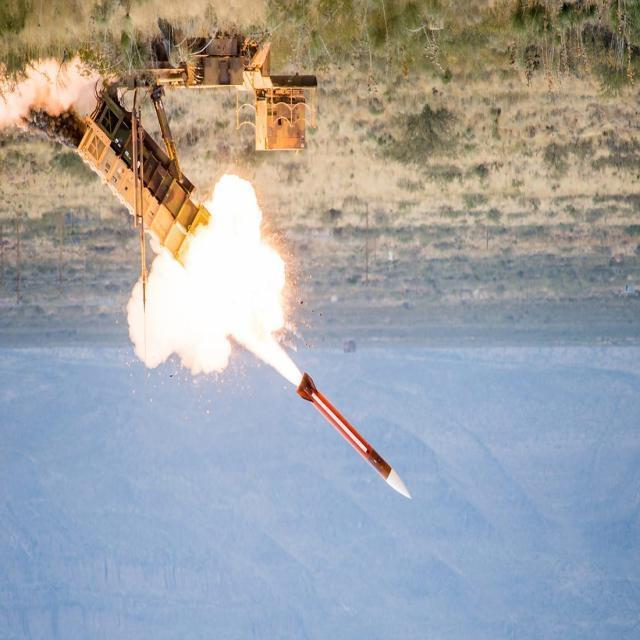missile: (287, 366, 417, 513)
